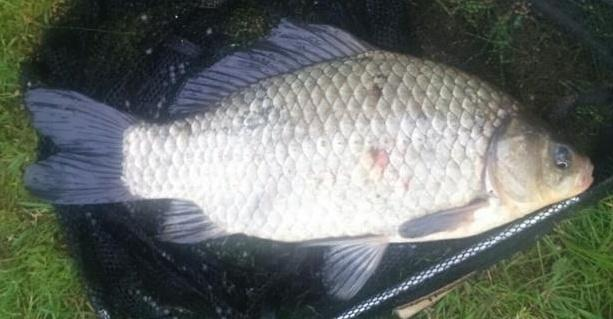Grass Carp: (22, 17, 596, 302)
